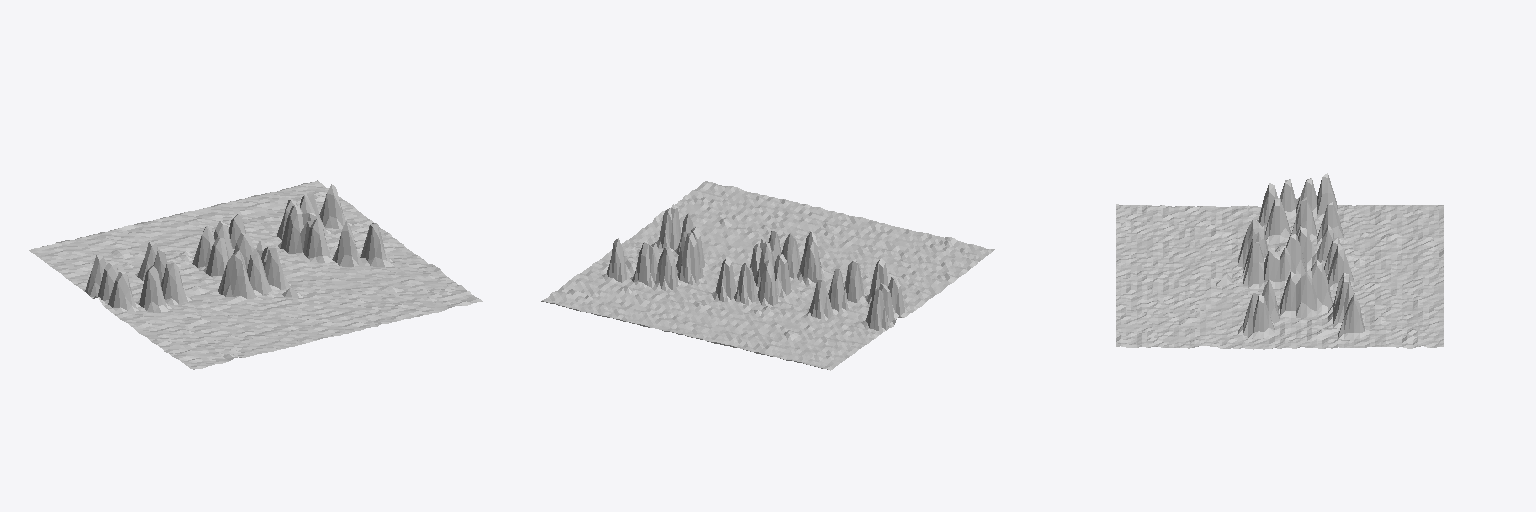
File: usc.obj
3 views of the same model, side by side, from view 1: azimuth 30°, elevation 25°; view 2: azimuth 150°, elevation 25°; view 3: azimuth 270°, elevation 25° (orthographic).
Bounding box in the file's own units: 6.3 × 0.9897 × 6.2.